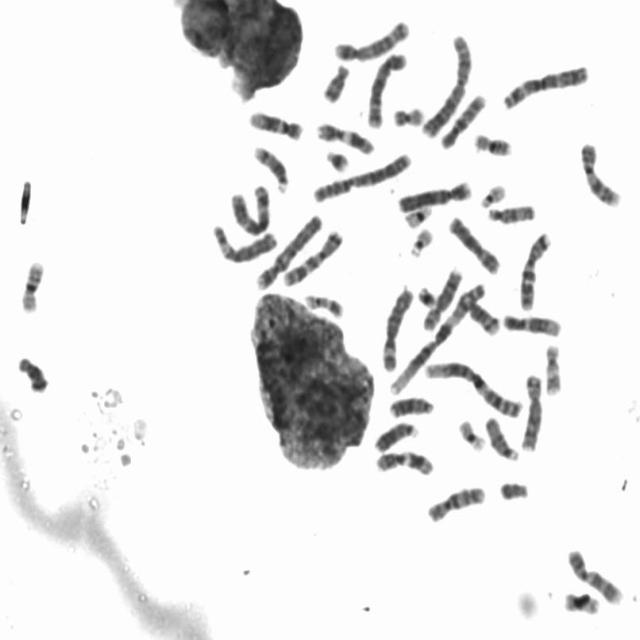A1: (385, 276, 489, 397), (420, 355, 526, 420)
A2: (418, 29, 474, 140), (309, 148, 414, 204)
A3: (498, 59, 591, 111), (226, 180, 272, 237)
B4: (251, 208, 325, 292), (394, 176, 474, 214)
B5: (364, 46, 409, 130), (331, 15, 411, 62)
C10: (437, 89, 488, 150), (423, 481, 488, 525)
C11: (313, 117, 377, 156), (372, 446, 436, 477)
C12: (244, 106, 306, 141), (498, 308, 564, 338)
C6: (379, 282, 416, 373), (209, 220, 279, 265)
C7: (279, 225, 345, 287), (516, 226, 554, 312)
C8: (419, 261, 466, 332), (518, 368, 544, 453)
C9: (564, 543, 626, 611), (577, 137, 624, 208)
D13: (370, 416, 419, 453), (386, 392, 436, 418)
D14: (250, 141, 291, 194), (463, 295, 503, 337)
D15: (481, 412, 521, 462), (482, 198, 538, 226)
E16: (17, 256, 47, 314), (470, 128, 515, 158)
E17: (301, 289, 345, 320), (542, 339, 564, 397)
E18: (13, 350, 51, 394), (319, 59, 352, 104)
F19: (455, 414, 488, 452), (401, 202, 434, 230)
F20: (561, 589, 601, 618), (389, 100, 426, 128)
G21: (322, 144, 352, 173), (415, 281, 439, 309)
G22: (406, 222, 435, 258), (476, 178, 508, 208)
X: (445, 211, 502, 276)
Y: (496, 476, 530, 502)
